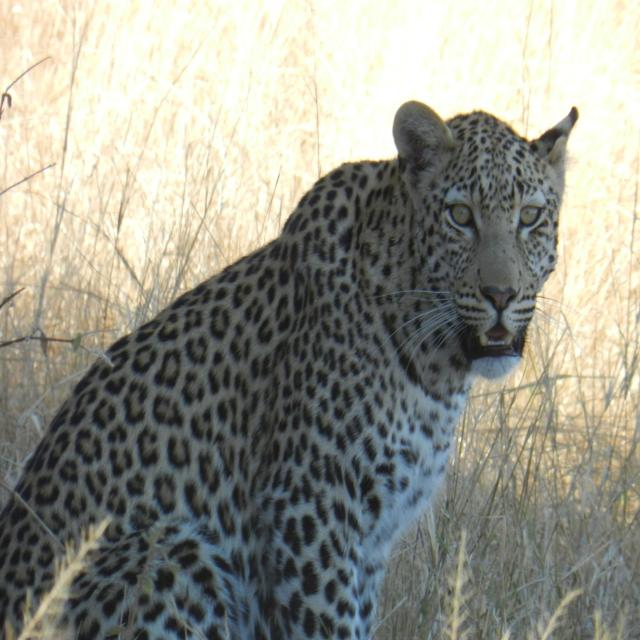Leopard: (0, 74, 605, 640)
